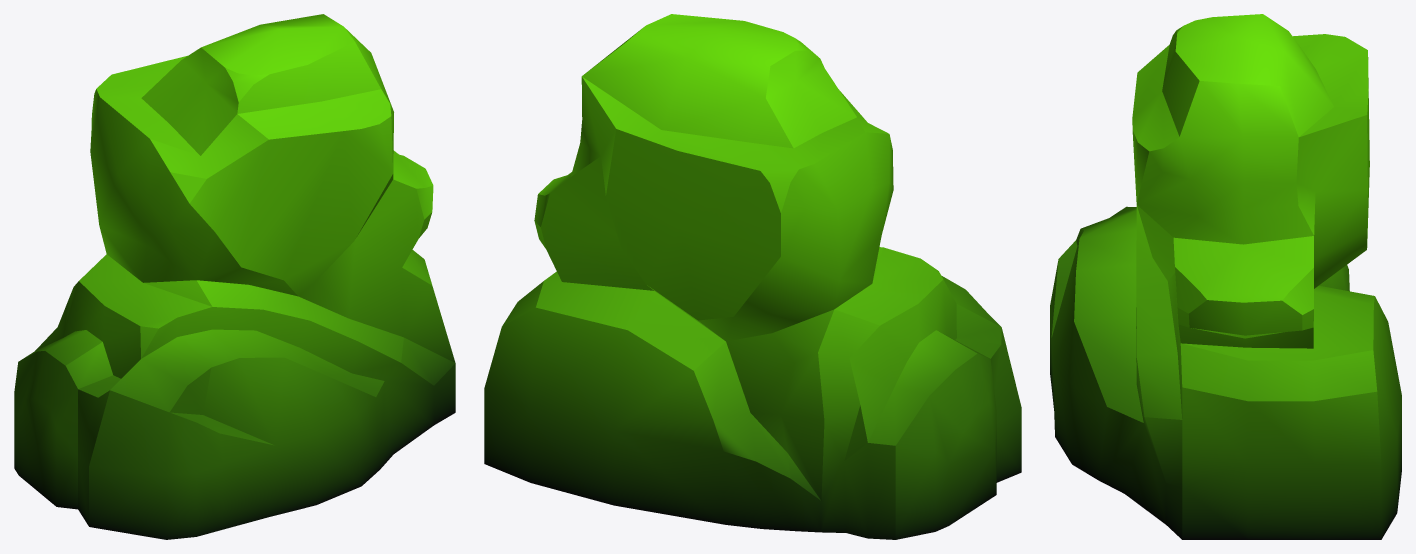
File: FOL_Foliage_08.FBX
The picture shows the model from 3 angles, left to right: view 1: azimuth 30°, elevation 25°; view 2: azimuth 150°, elevation 25°; view 3: azimuth 270°, elevation 25°; orthographic projection. The views are drawn at different scales.
Parts seen in each view (by area): view 1: FOL_Foliage_08; view 2: FOL_Foliage_08; view 3: FOL_Foliage_08.
Part boxes in pixels (left/top/right/bottom): FOL_Foliage_08: left=14, top=14, right=455, bottom=539; FOL_Foliage_08: left=484, top=14, right=1021, bottom=539; FOL_Foliage_08: left=1050, top=14, right=1401, bottom=539.
Size of the model in its own units: 0.1168 by 0.1558 by 0.1646.
